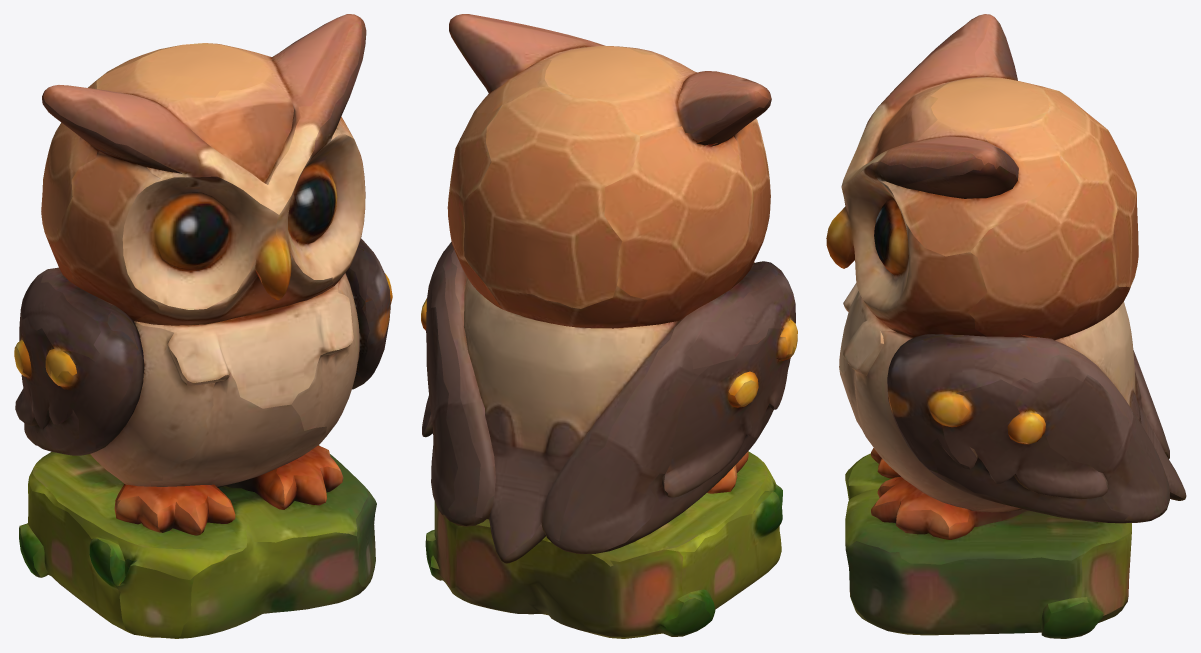
The model's file is x-statue-owl.glb.
3 renders of one model, left to right at view 1: azimuth 30°, elevation 25°; view 2: azimuth 150°, elevation 25°; view 3: azimuth 270°, elevation 25°, orthographic. The views are drawn at different scales.
Visible parts, largest first — view 1: geometry_0; view 2: geometry_0; view 3: geometry_0.
Part boxes in pixels (x1,y1,x2,y2): geometry_0: (14, 14, 392, 638); geometry_0: (421, 14, 797, 638); geometry_0: (826, 14, 1186, 638).
Size of the model in its own units: 0.6727 by 1 by 0.653.
Materials: 1 (1 with a texture image).
